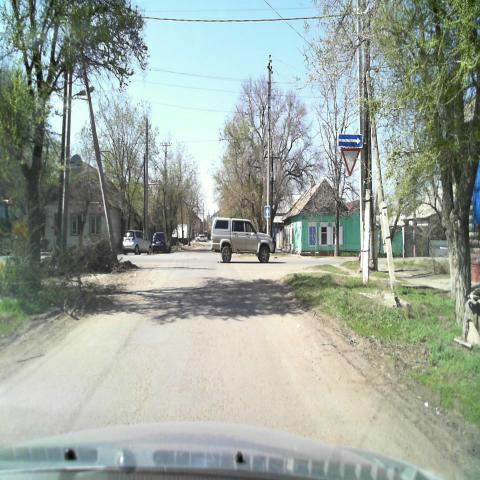5_7_1: (338, 134, 362, 149)
